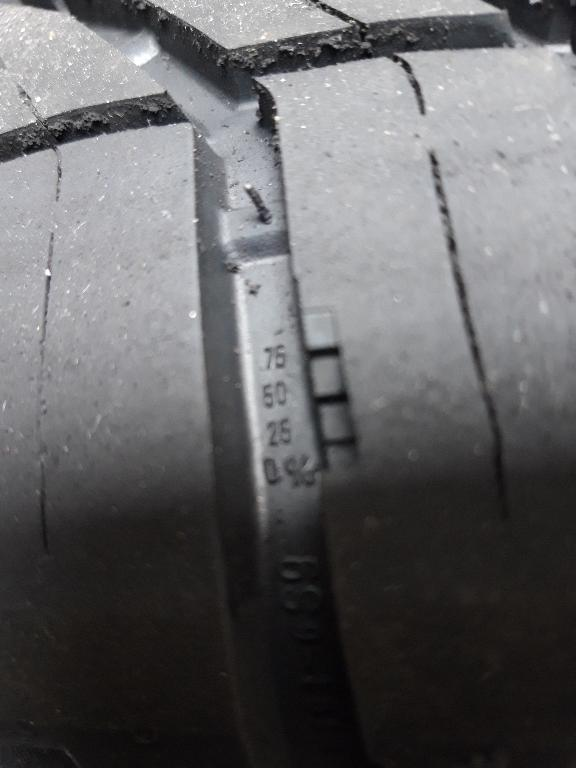temoin:75: (291, 291, 374, 491)
